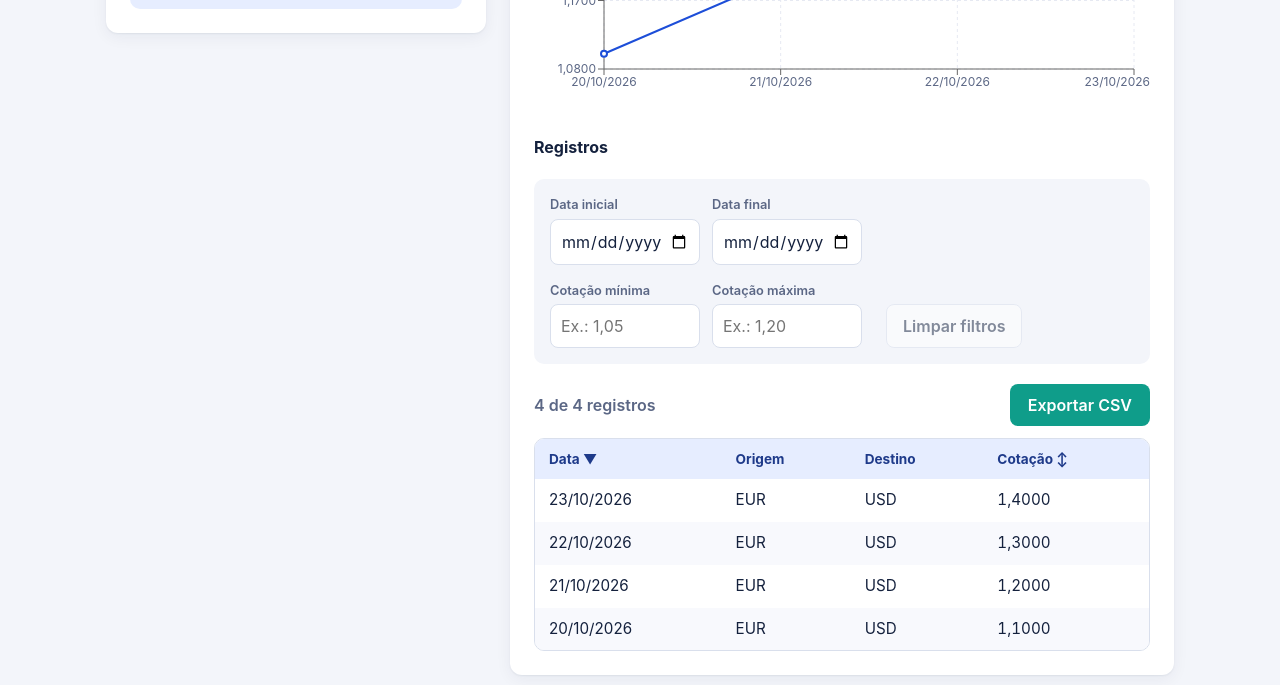
Scenario: App (integração com fetch simulado) › filtra por cotação mínima e máxima e atualiza o contador
(page scrolled)
Expected: the text "4 de 4 registros" is shown, [534, 393, 656, 417]
In the field labelled "Cotação mínima": coordinates (625, 326) [550, 304, 700, 348], type "1,2"
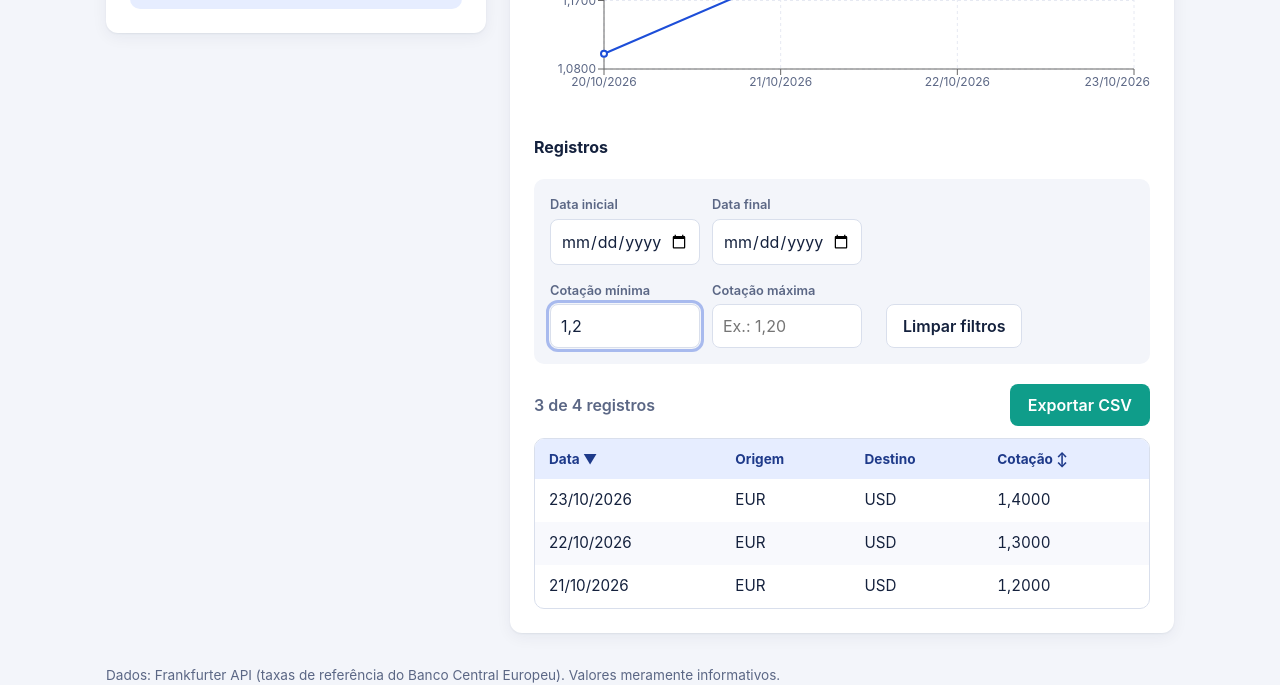
In the field labelled "Cotação máxima": coordinates (787, 326) [712, 304, 862, 348], type "1,3"
(page scrolled)
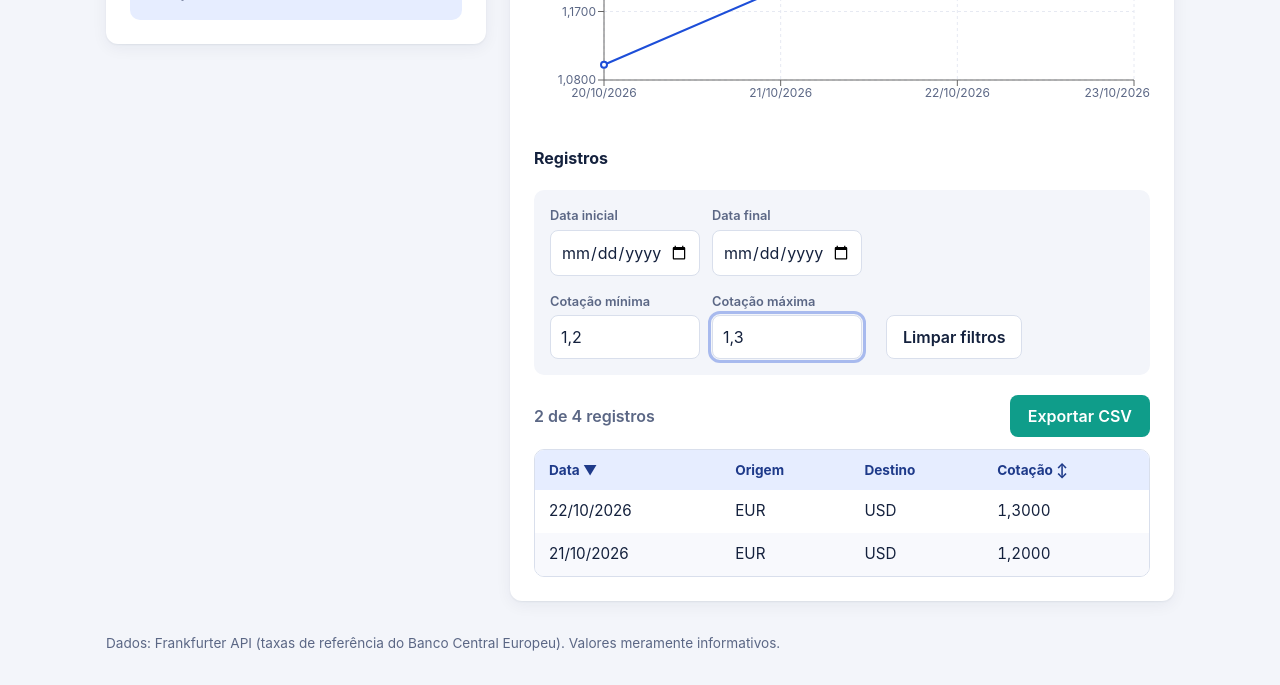
Now the text "2 de 4 registros" is shown, box [534, 404, 655, 428]
